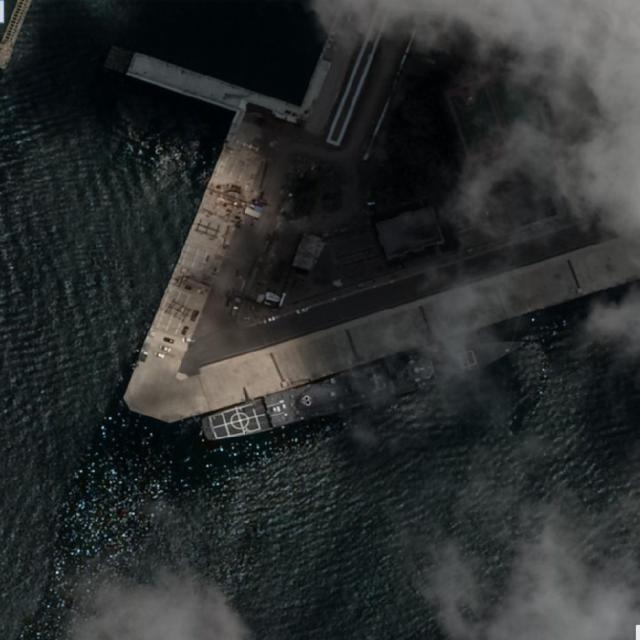Frigate: (200, 323, 534, 445)
